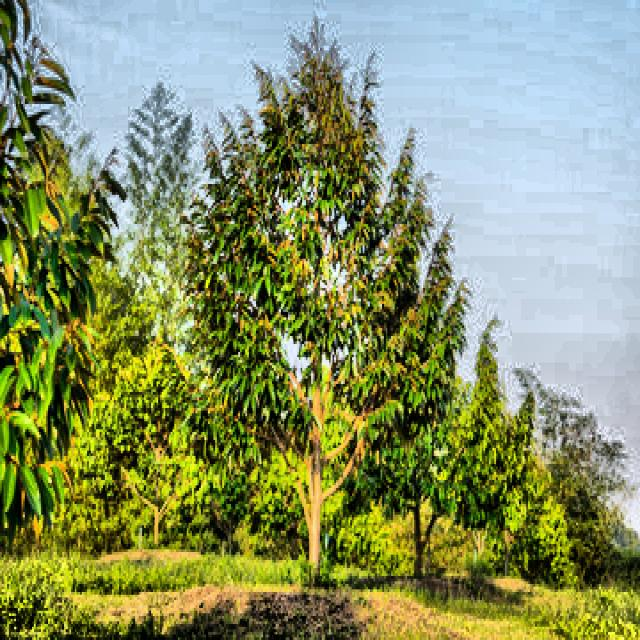arvore: (291, 240, 334, 607), (403, 402, 436, 597)
